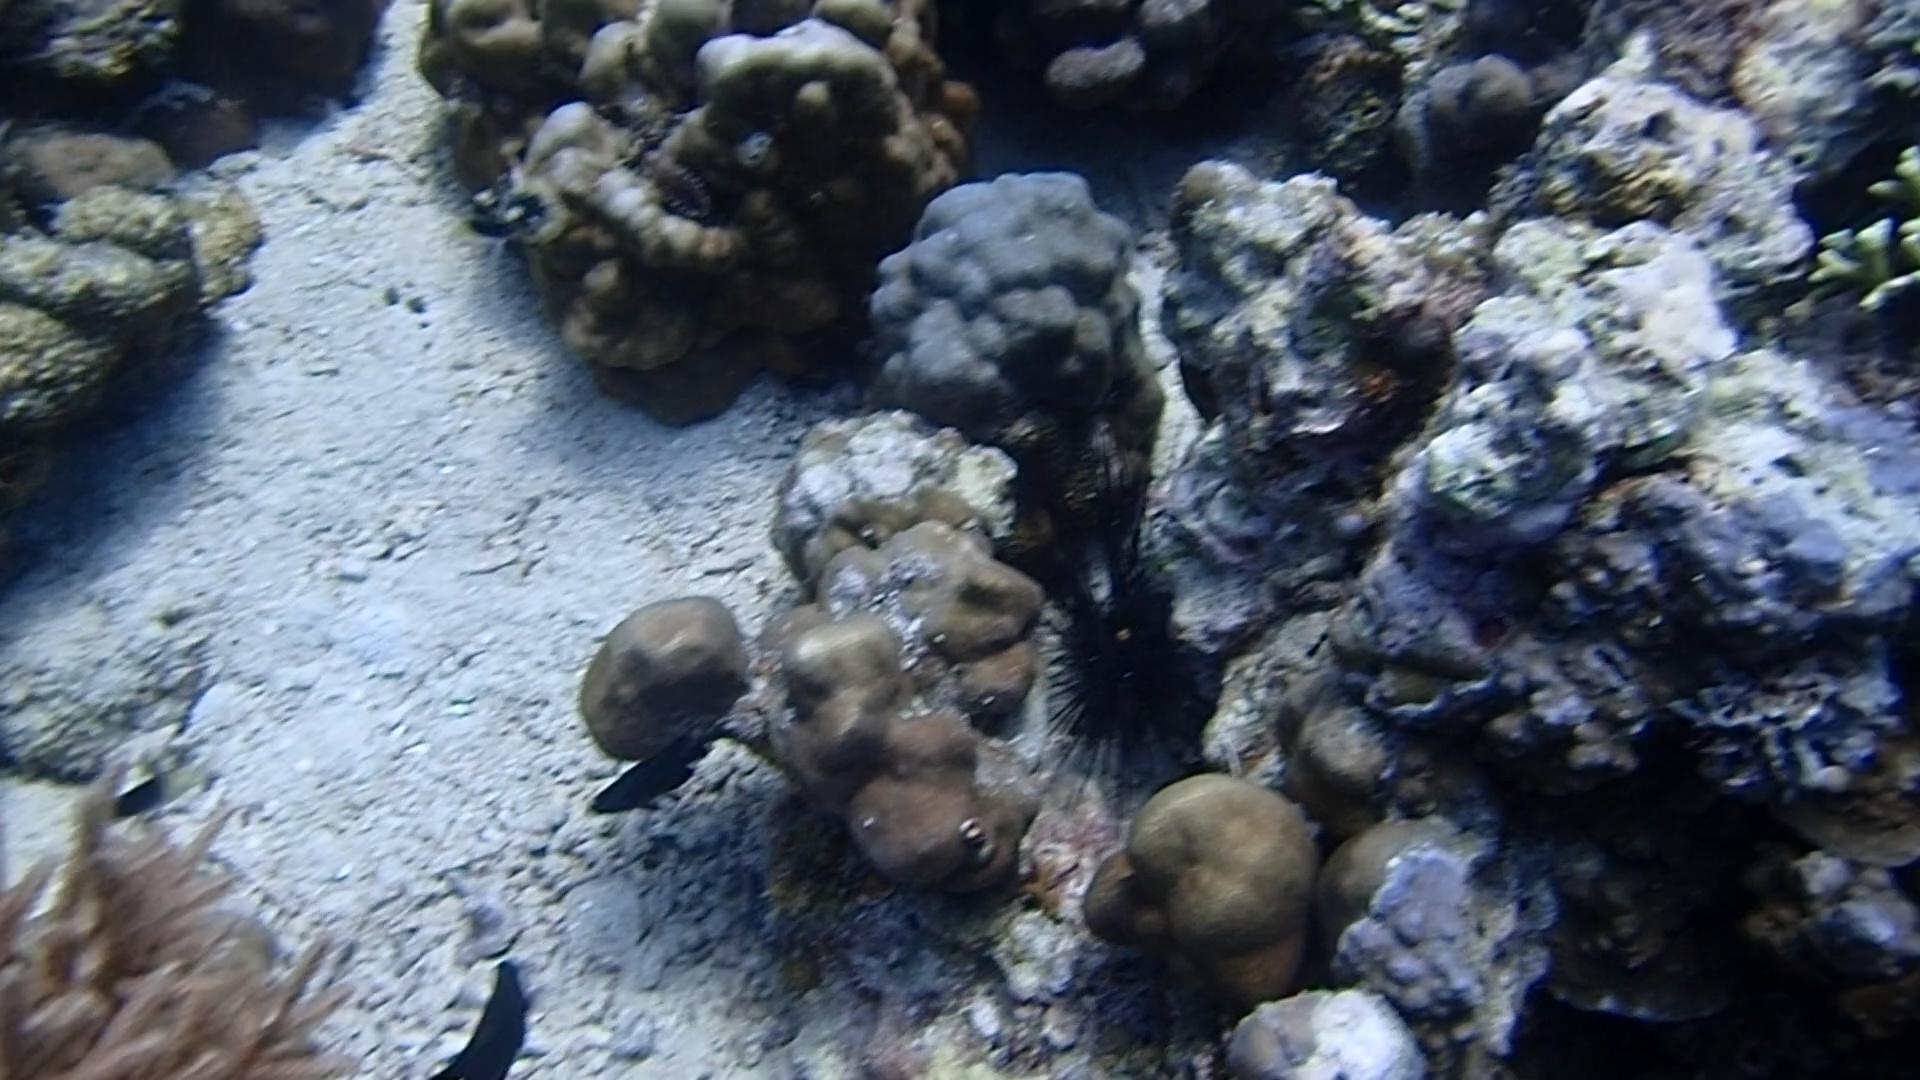Dark Fish: (415, 948, 560, 1080), (574, 725, 713, 818)
Yellow Tail: (100, 754, 212, 823), (446, 200, 531, 256)
